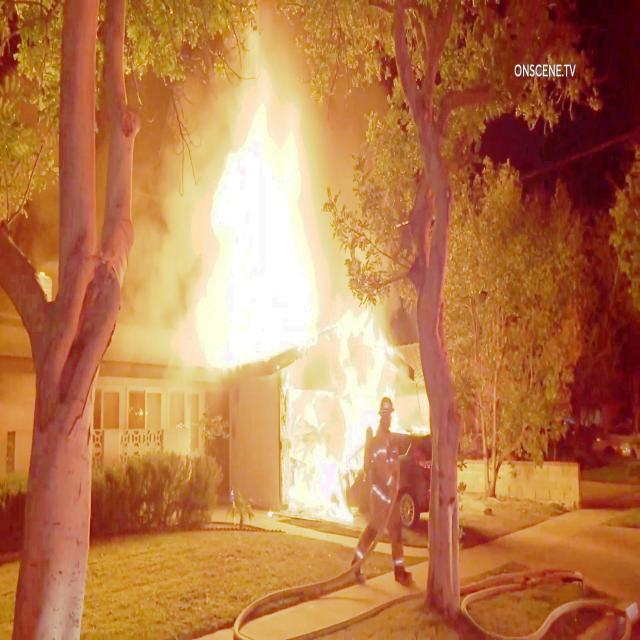Fire: (193, 21, 325, 360), (284, 370, 337, 510), (322, 316, 372, 424)
Smoke: (117, 120, 187, 351)
